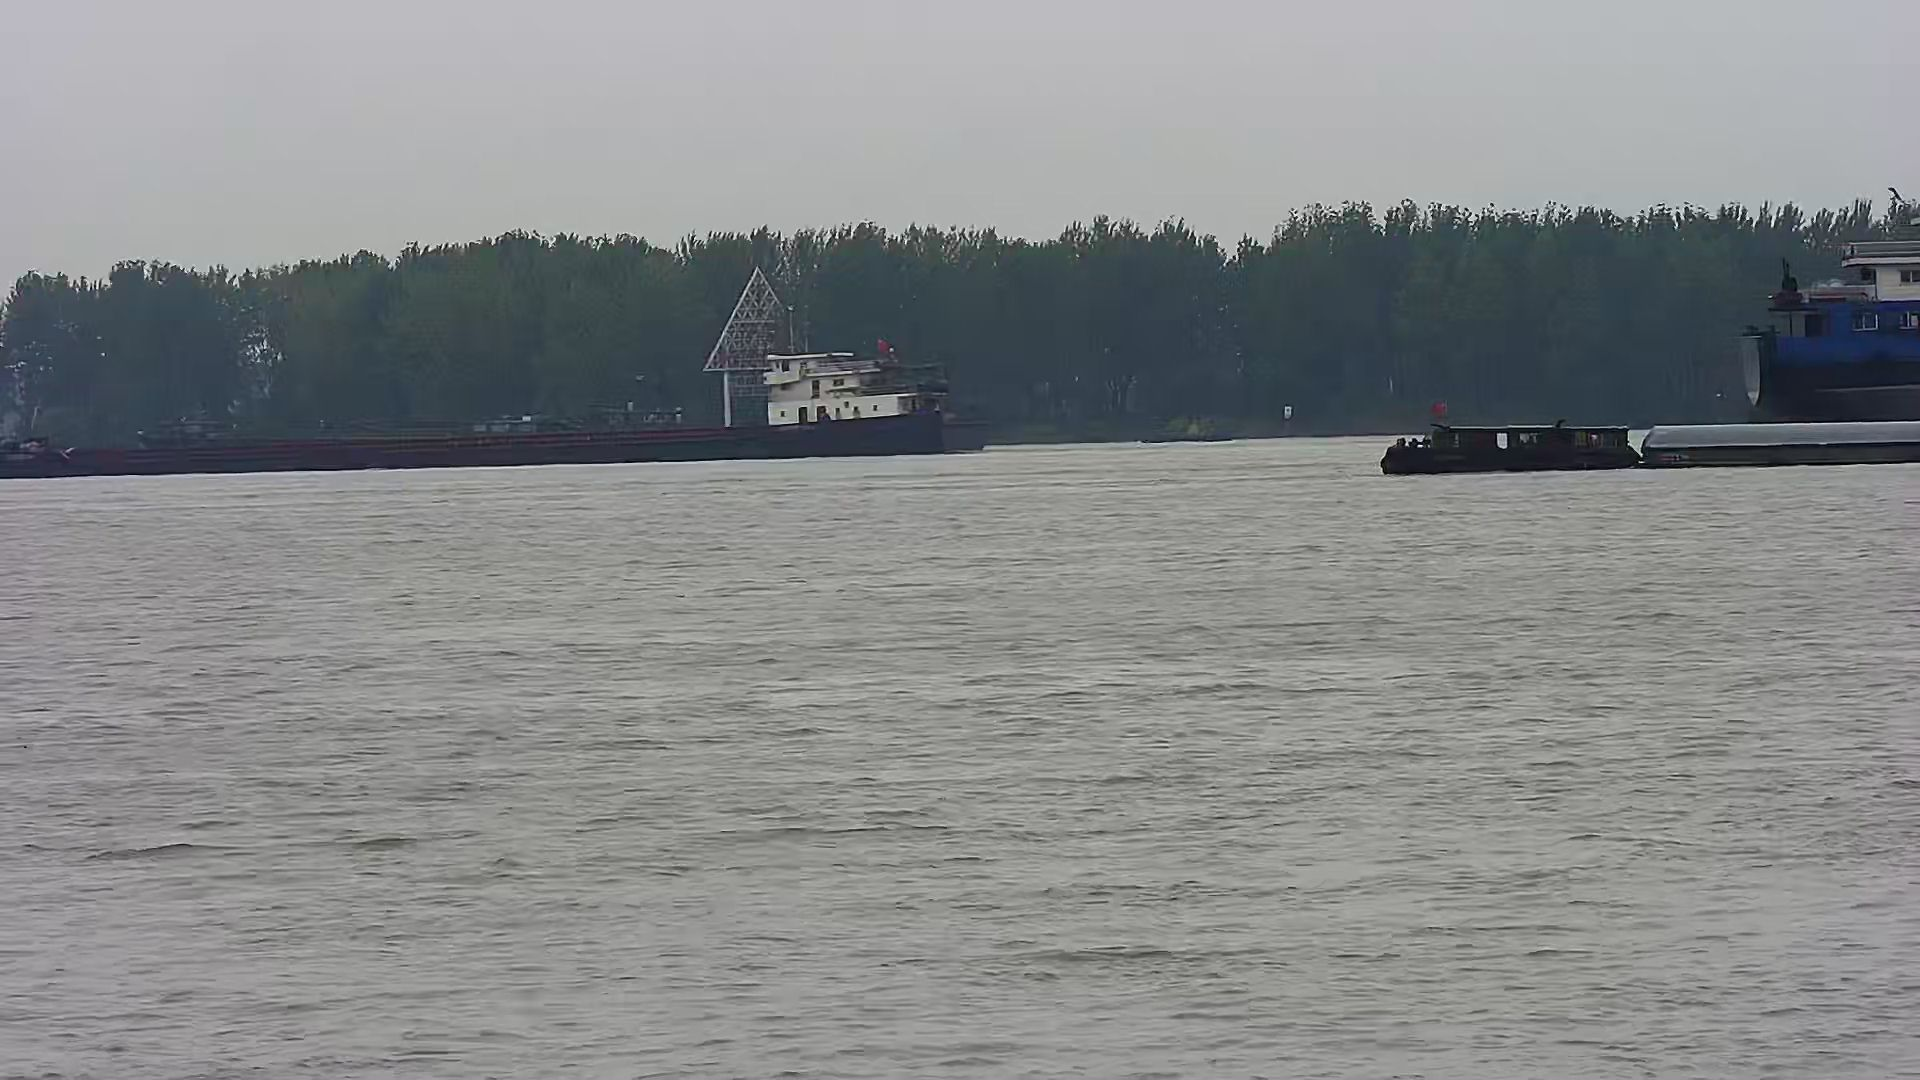boat: (1139, 417, 1222, 442)
ship: (3, 335, 1000, 477), (1377, 386, 1920, 477), (1731, 211, 1920, 443)
